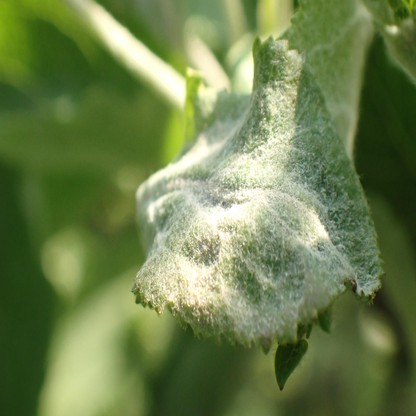powdery_mildew: (132, 0, 385, 355)
